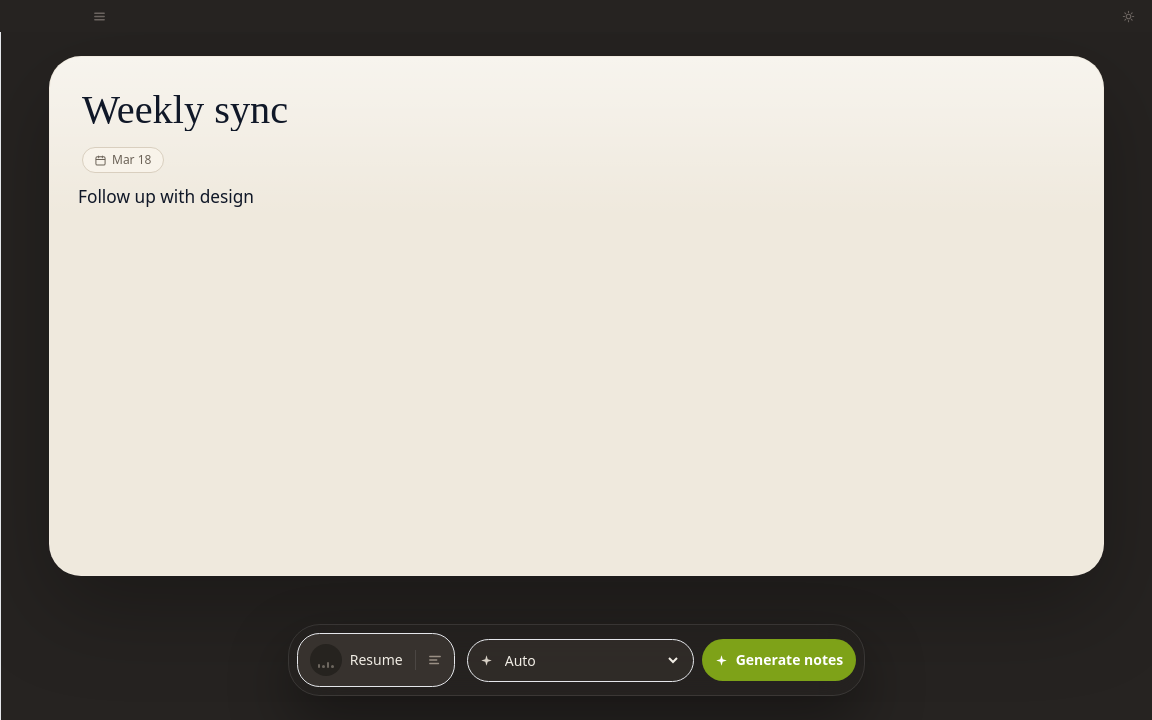
it: App enhancement flow › shows staged enhancement progress while enhancement is running
The image size is (1152, 720).
Expected: the element with test id "meeting-bar" is shown, [50, 57, 1103, 173]
Click the button with test id "generate-notes-button".
click(779, 660)  # box [702, 639, 856, 681]
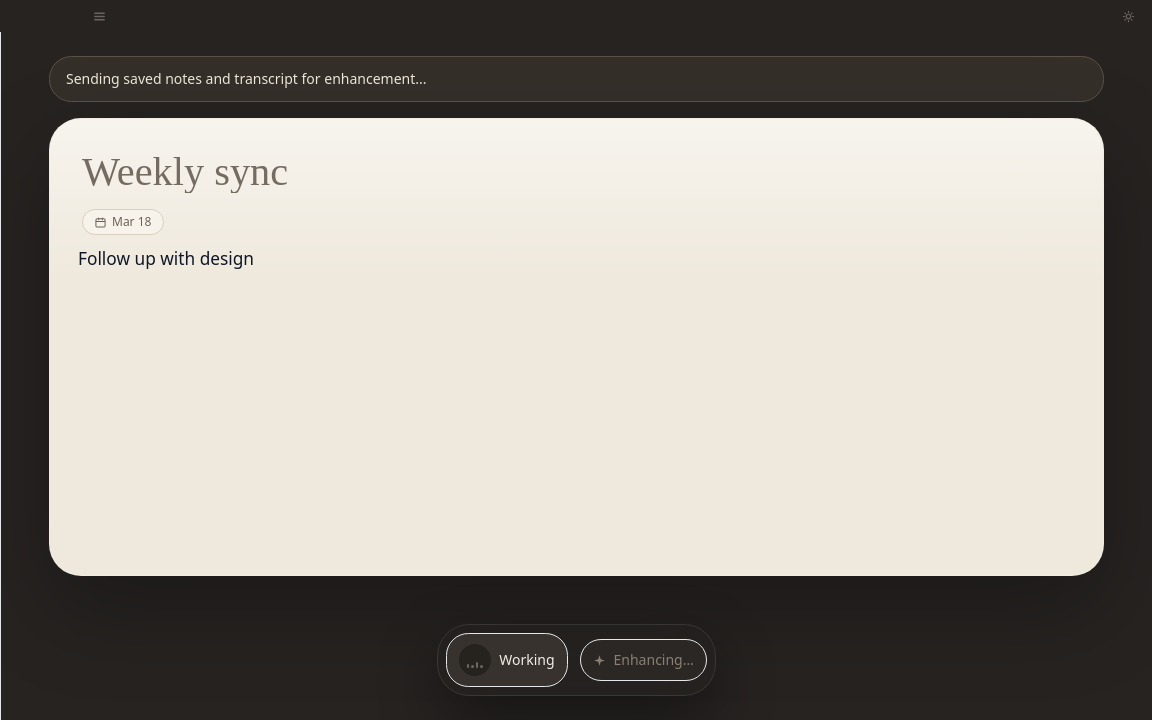
Expected: the text "Sending saved notes and transcript for enhancement..." is shown, [66, 69, 426, 89]
